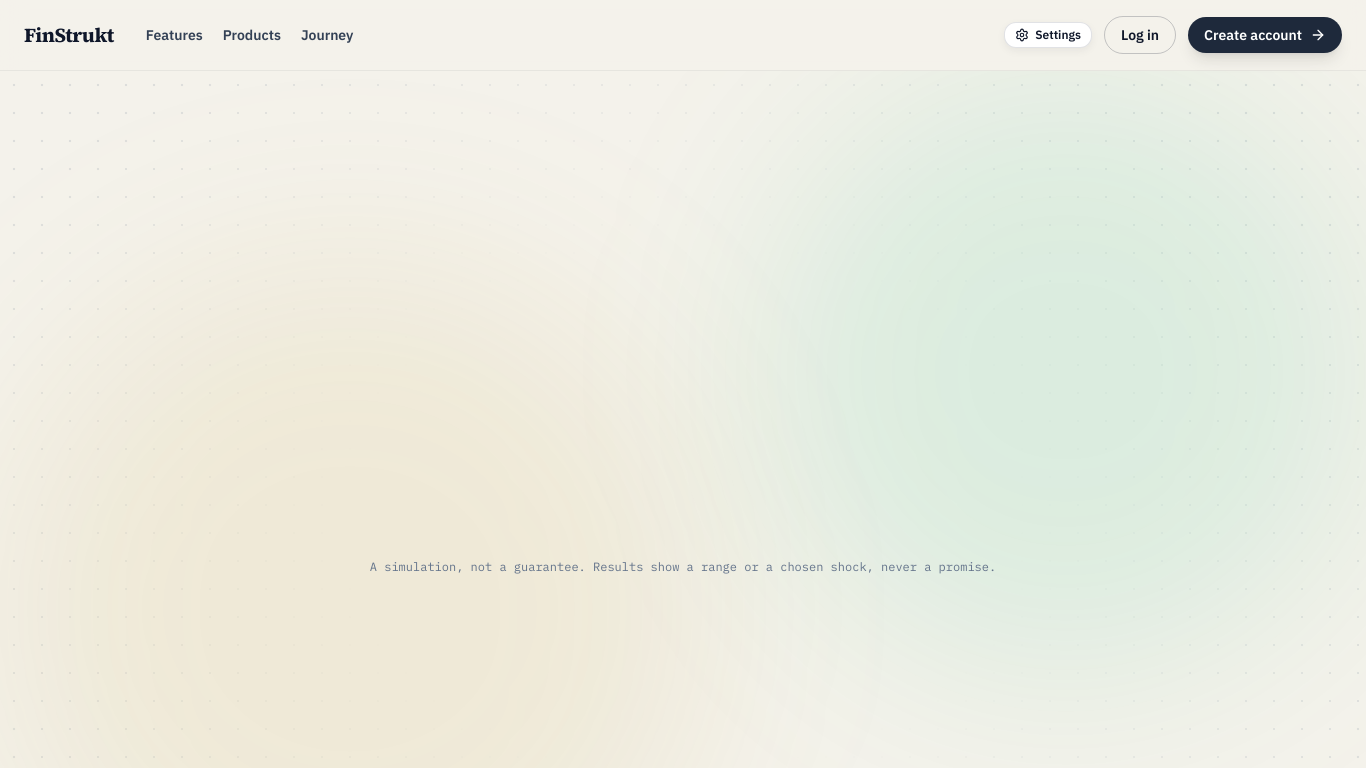
it: signing in › shows one sign-in page for everyone, with no role to choose
Click the button "Log in" at (1140,35), box [1104,16,1176,54]
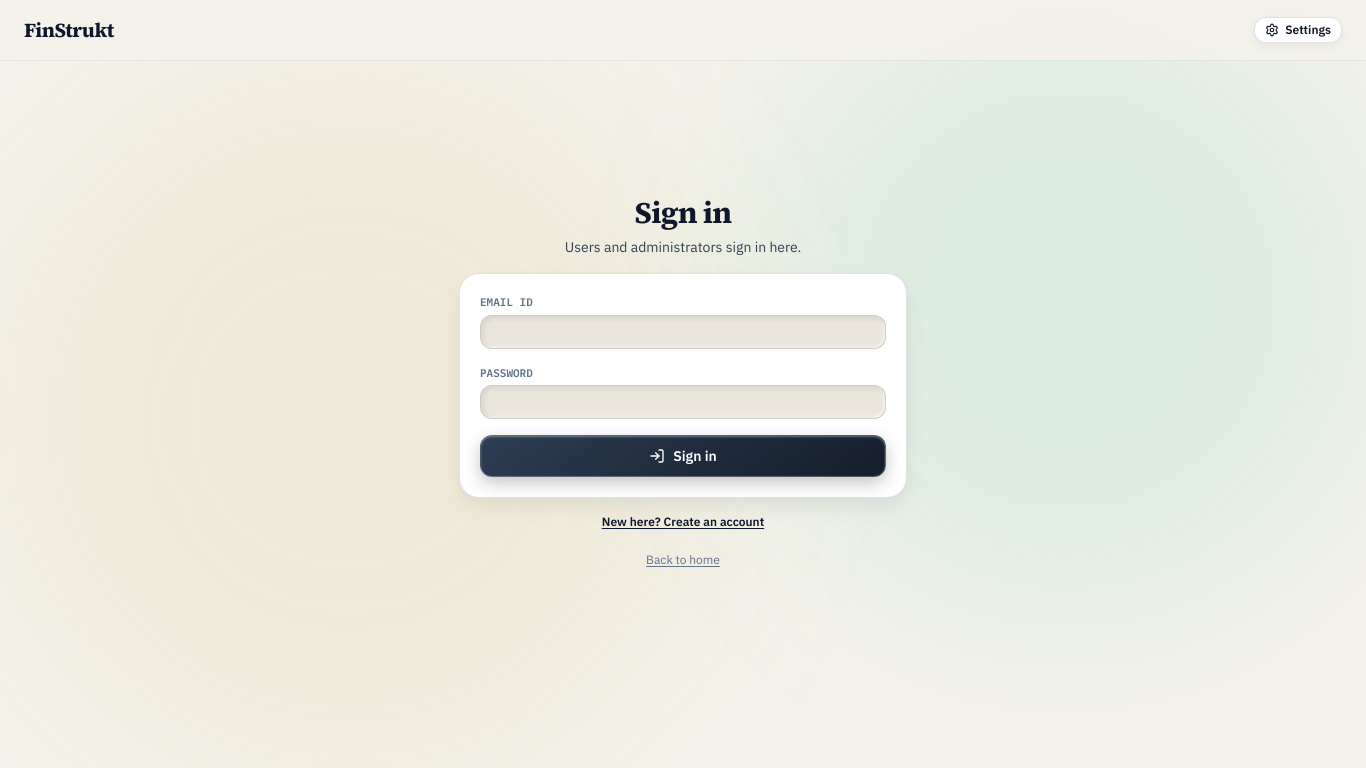
Check: the heading "Sign in" is shown, box [635,192,731,233]
Check: the field labelled "Email id" is shown, box [480,314,886,348]
Check: the password field labelled "Password" is shown, box [480,385,886,419]
